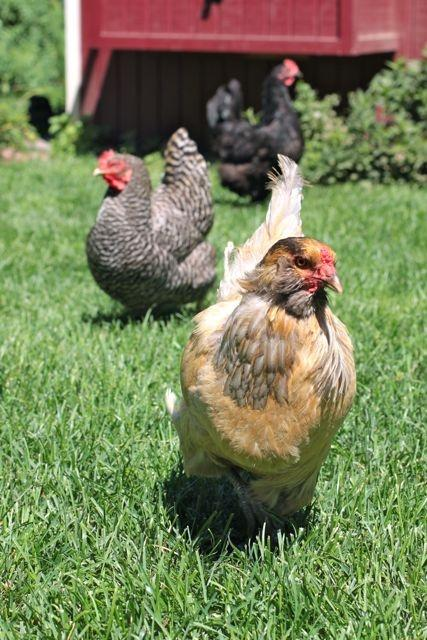Chicken: (176, 159, 357, 533), (87, 130, 222, 316), (207, 57, 307, 199)
